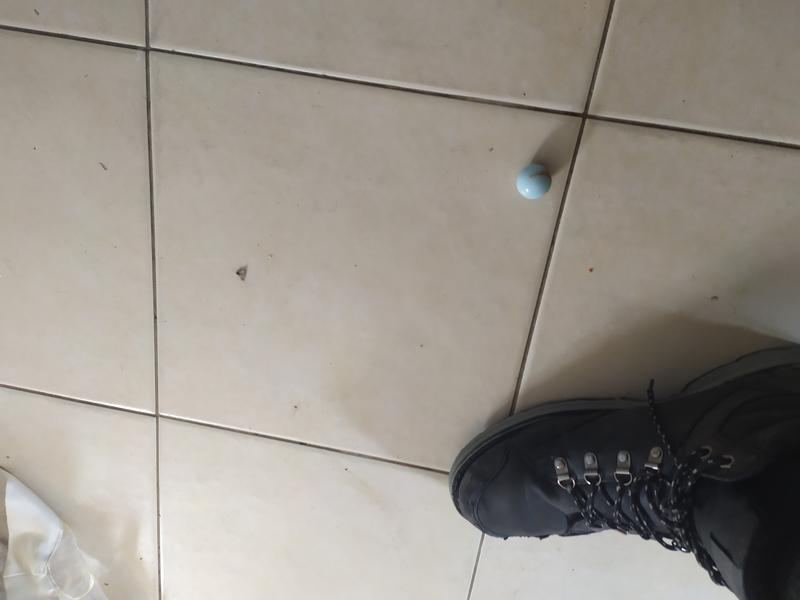Warning: (514, 160, 554, 202)
